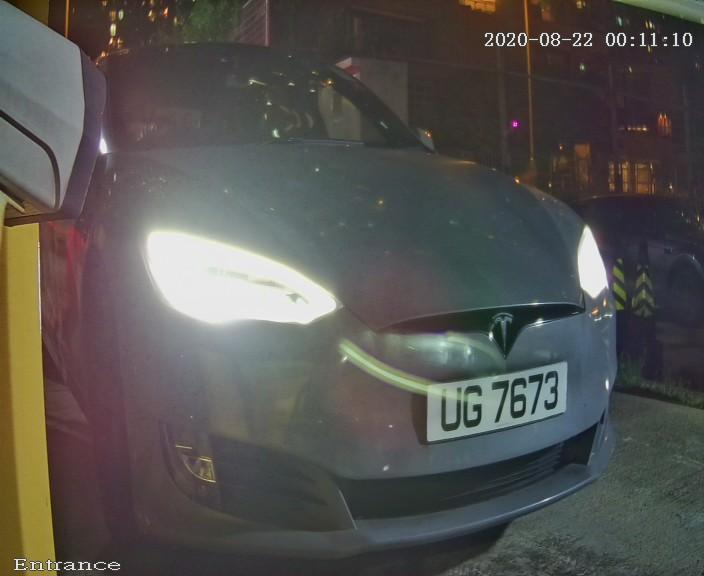Car: (10, 1, 686, 571)
License Plate: (412, 355, 579, 448)
